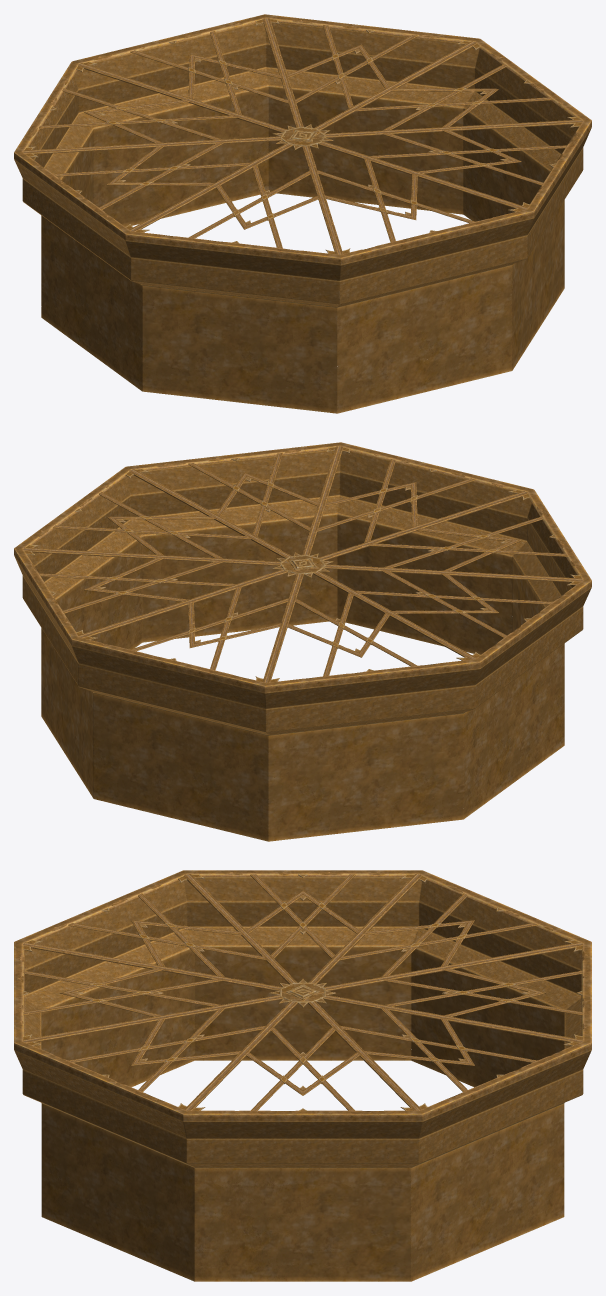
The picture shows the model from 3 angles, top to bottom: view 1: azimuth 30°, elevation 25°; view 2: azimuth 150°, elevation 25°; view 3: azimuth 270°, elevation 25°; orthographic projection. The views are drawn at different scales.
Visible parts, largest first — view 1: SM_BossArena_Fuzan_LOD0; view 2: SM_BossArena_Fuzan_LOD0; view 3: SM_BossArena_Fuzan_LOD0.
Part boxes in pixels (<box>): SM_BossArena_Fuzan_LOD0: <box>14,14,591,413</box>; SM_BossArena_Fuzan_LOD0: <box>14,442,591,841</box>; SM_BossArena_Fuzan_LOD0: <box>14,870,591,1281</box>.
Size of the model in its own units: 78.66 by 27.08 by 78.66.
Materials: 2 (2 with a texture image).
